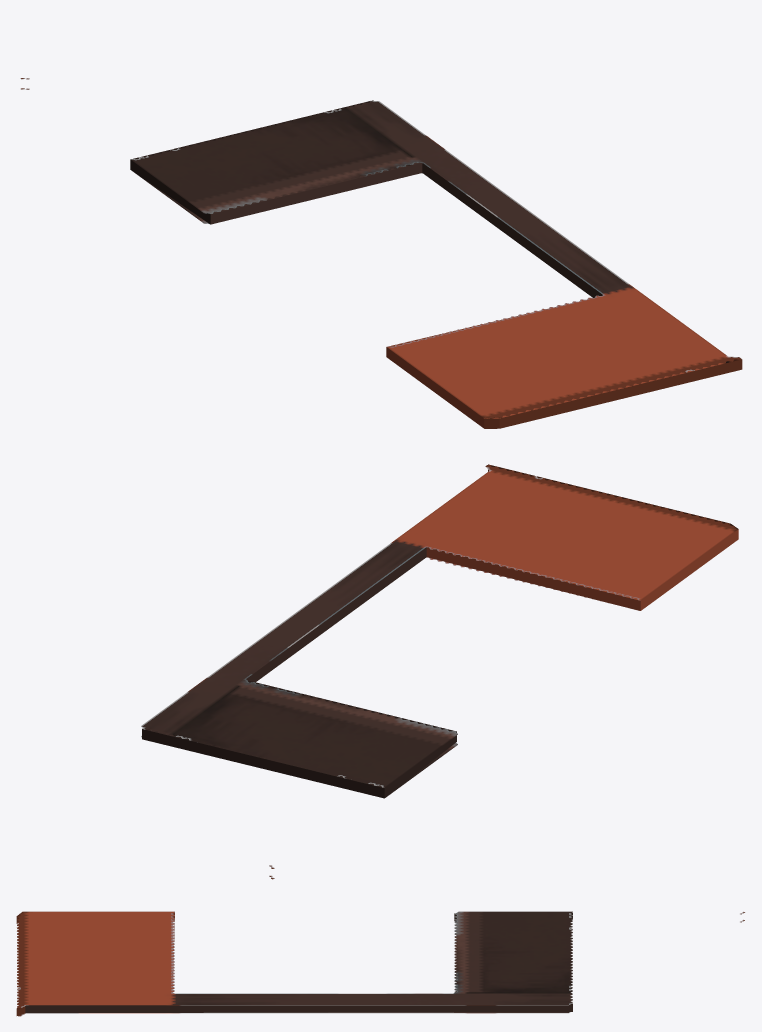
The model's file is pz_native_location_restaurant_seahorse_01_26_frame.obj.
3 views of the same model, one above another, from view 1: azimuth 30°, elevation 25°; view 2: azimuth 150°, elevation 25°; view 3: azimuth 270°, elevation 25° (orthographic). The views are drawn at different scales.
Parts seen in each view (by area): view 1: pz_native_location_restaurant_seahorse_01_26_frame; view 2: pz_native_location_restaurant_seahorse_01_26_frame; view 3: pz_native_location_restaurant_seahorse_01_26_frame.
Boxes of the visible parts, bbox=[...] form: pz_native_location_restaurant_seahorse_01_26_frame: bbox=[20, 78, 742, 428]; pz_native_location_restaurant_seahorse_01_26_frame: bbox=[141, 464, 738, 879]; pz_native_location_restaurant_seahorse_01_26_frame: bbox=[16, 911, 744, 1016].
Bounding box in the file's own units: 1.06 × 0.04 × 3.32.
1 material, 1 textured.
